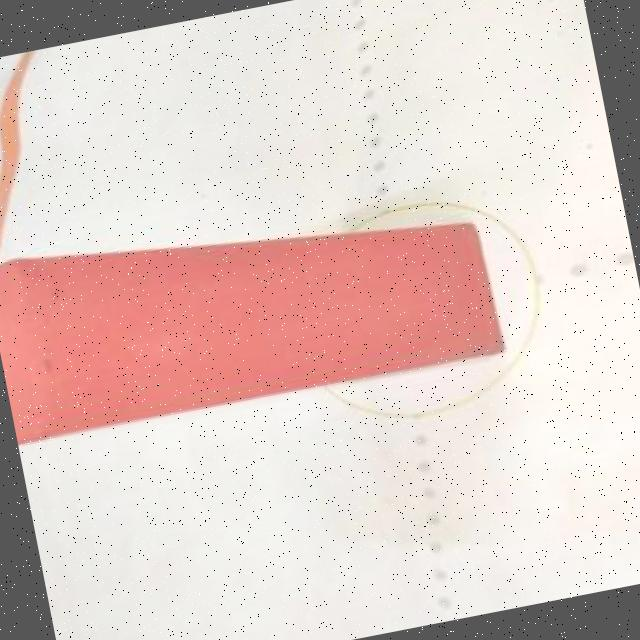redbox: (0, 169, 505, 450)
